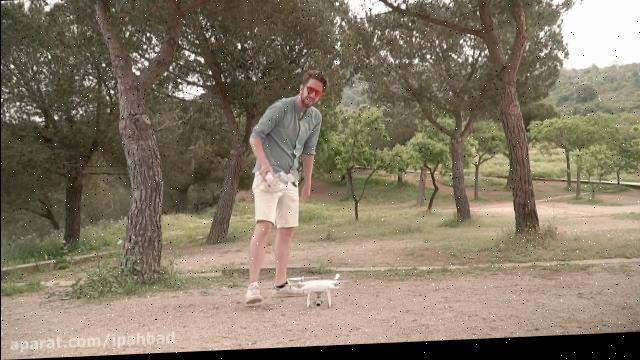drone: (288, 273, 348, 312)
